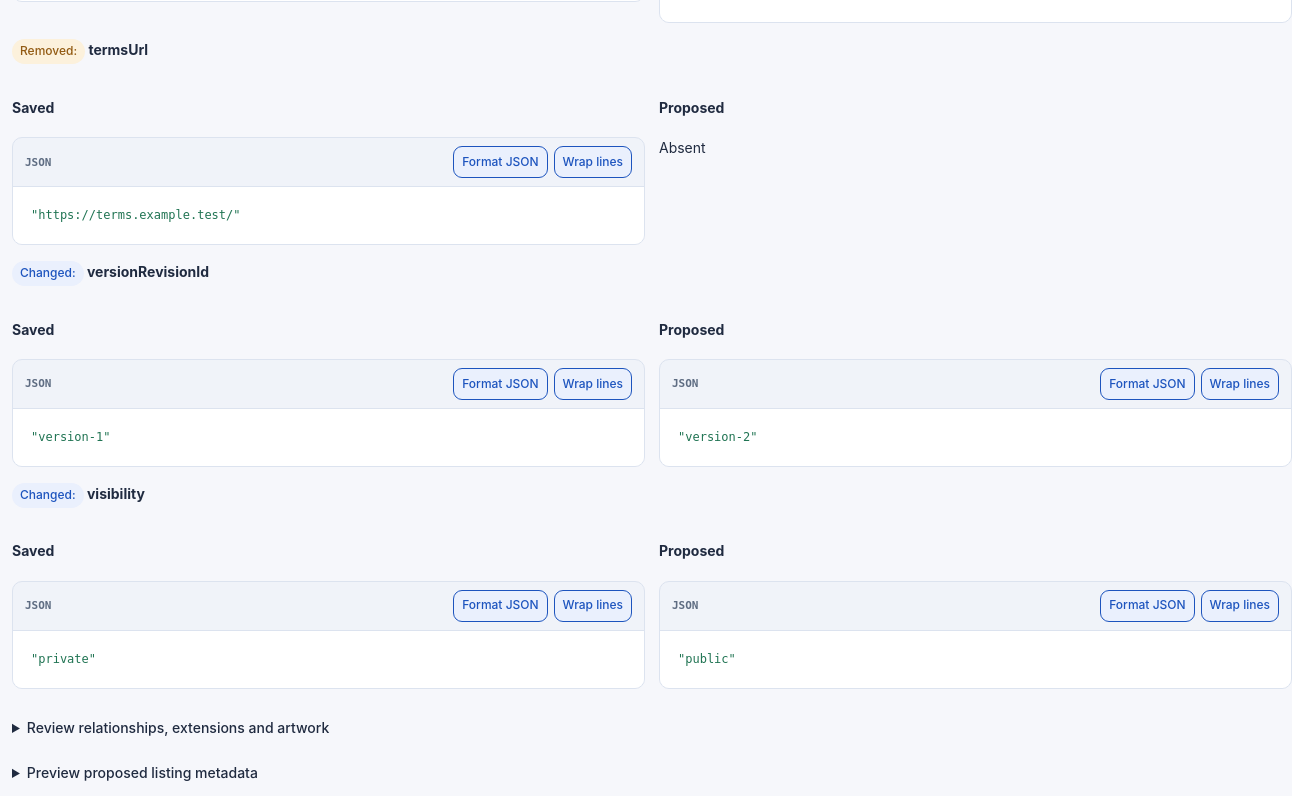
it: compares every prepared field including removed links, changed references and opaque arrays
(page scrolled)
Expected: the element named "Changed versionRevisionId" shows "version-2", [678, 430, 758, 444]
Click the heading "Review relationships, extensions and artwork".
click(178, 727)  # box [27, 718, 329, 736]
(page scrolled)
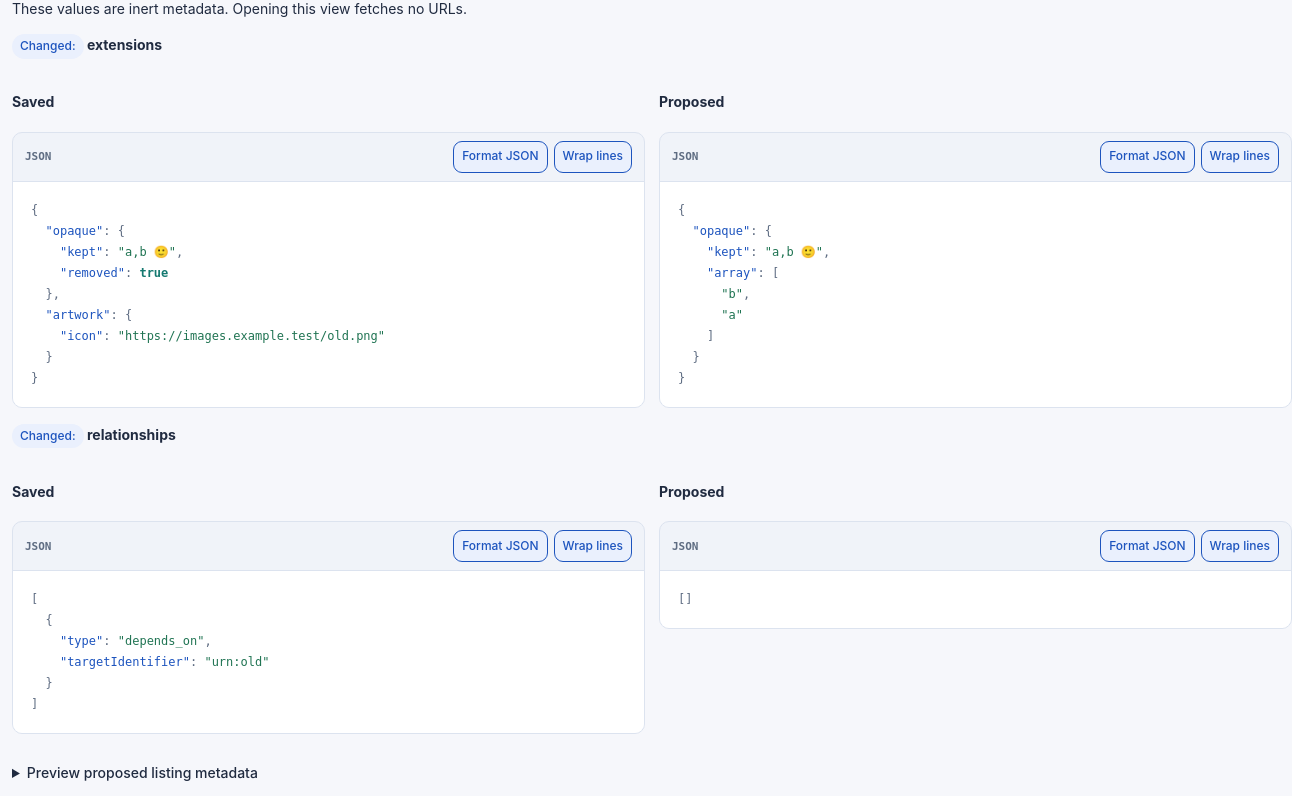
Now the element named "Changed extensions" shows "images.example.test/old.png", box [118, 329, 385, 343]
Now the element named "Changed extensions" shows "a,b 🙂", box [118, 245, 176, 259]
Now the element named "Changed extensions" shows "removed", box [60, 266, 125, 280]
Click the heading "Preview proposed listing metadata".
click(142, 773)  # box [27, 764, 258, 781]
(page scrolled)
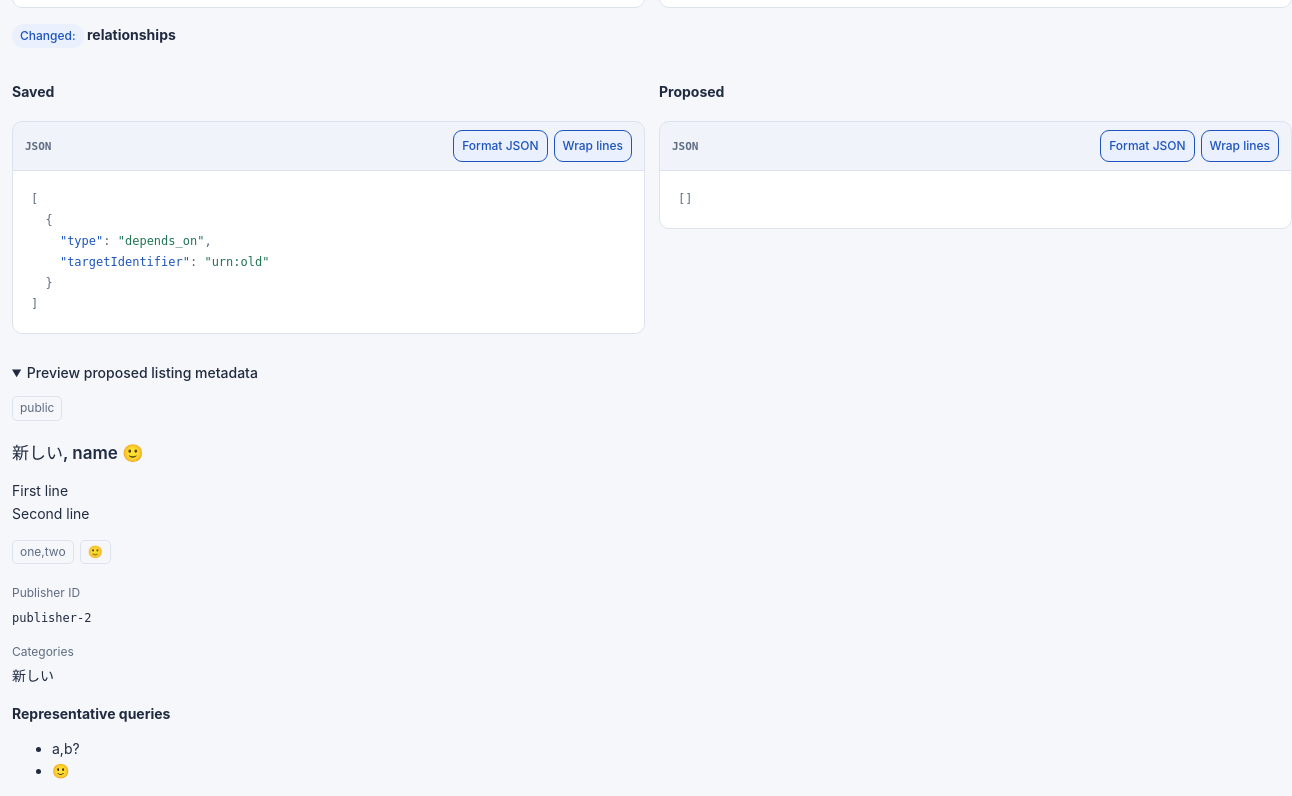
Now the heading "新しい, name 🙂" is shown, box [12, 443, 143, 463]
